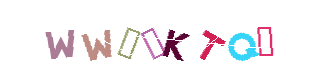0: (90, 0, 170, 80)
3: (203, 0, 283, 80)
8: (80, 0, 160, 80)
K: (120, 0, 200, 80)
Q: (190, 0, 270, 80)
T: (134, 0, 214, 80)
W: (49, 0, 129, 80), (70, 0, 150, 80)
